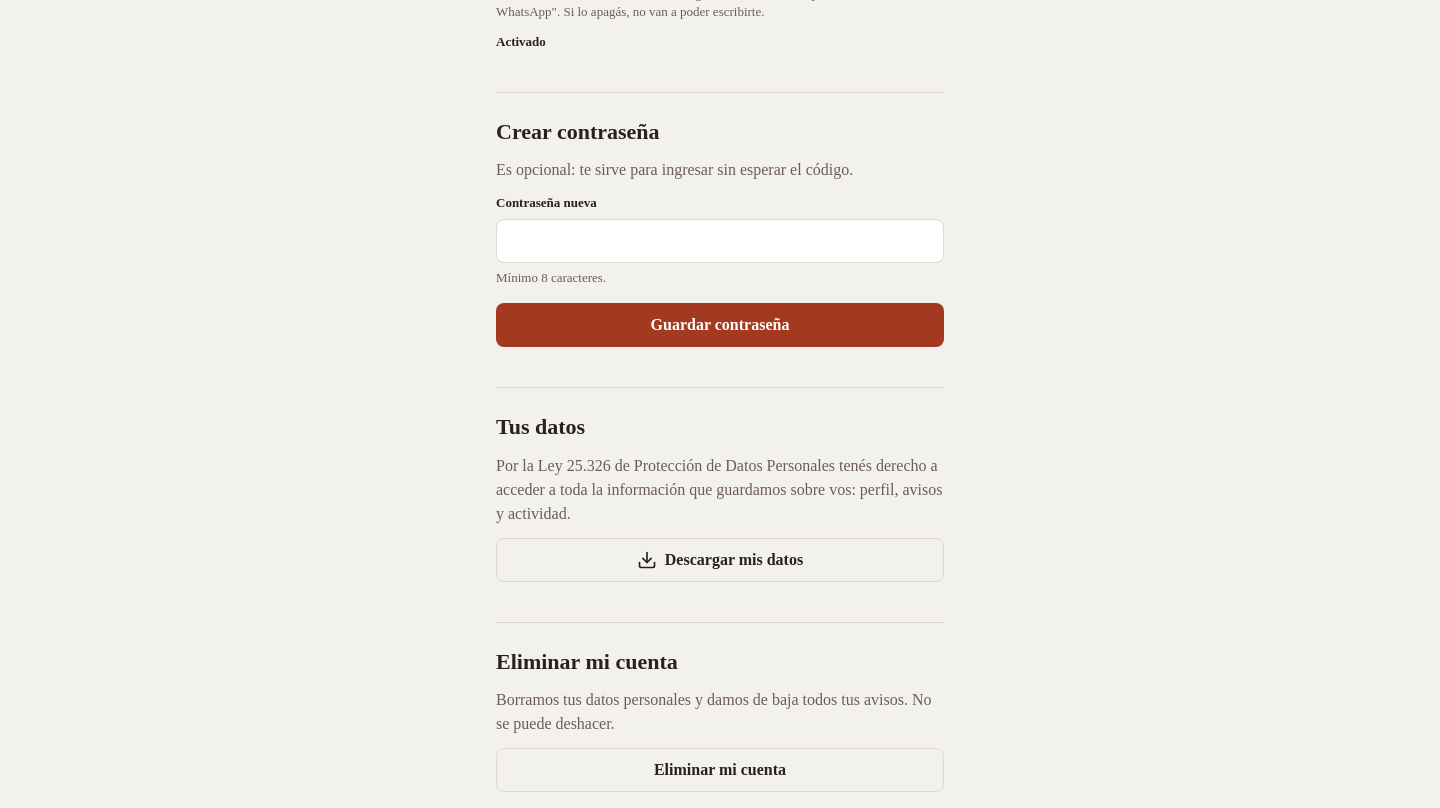
/ajustes › el borrado exige escribir ELIMINAR
(page scrolled)
Click the button "Eliminar mi cuenta" at {"x": 720, "y": 770}, box [496,748,944,792]
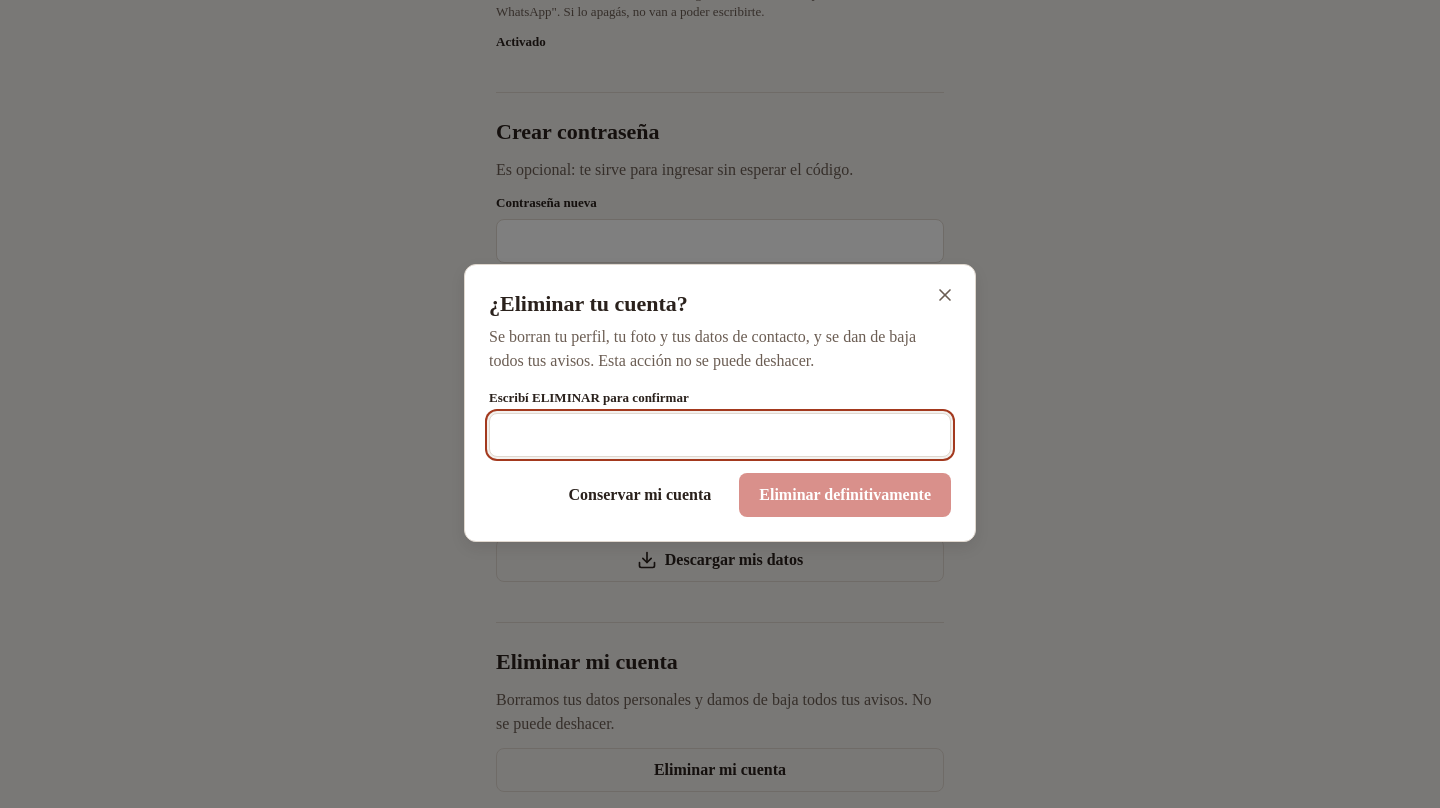
Result: the button "Eliminar definitivamente" is disabled at [739,473,951,517]
Type "ELIMINA" into the field labelled "Escribí ELIMINAR para confirmar" at {"x": 720, "y": 435}, box [489,413,951,457]
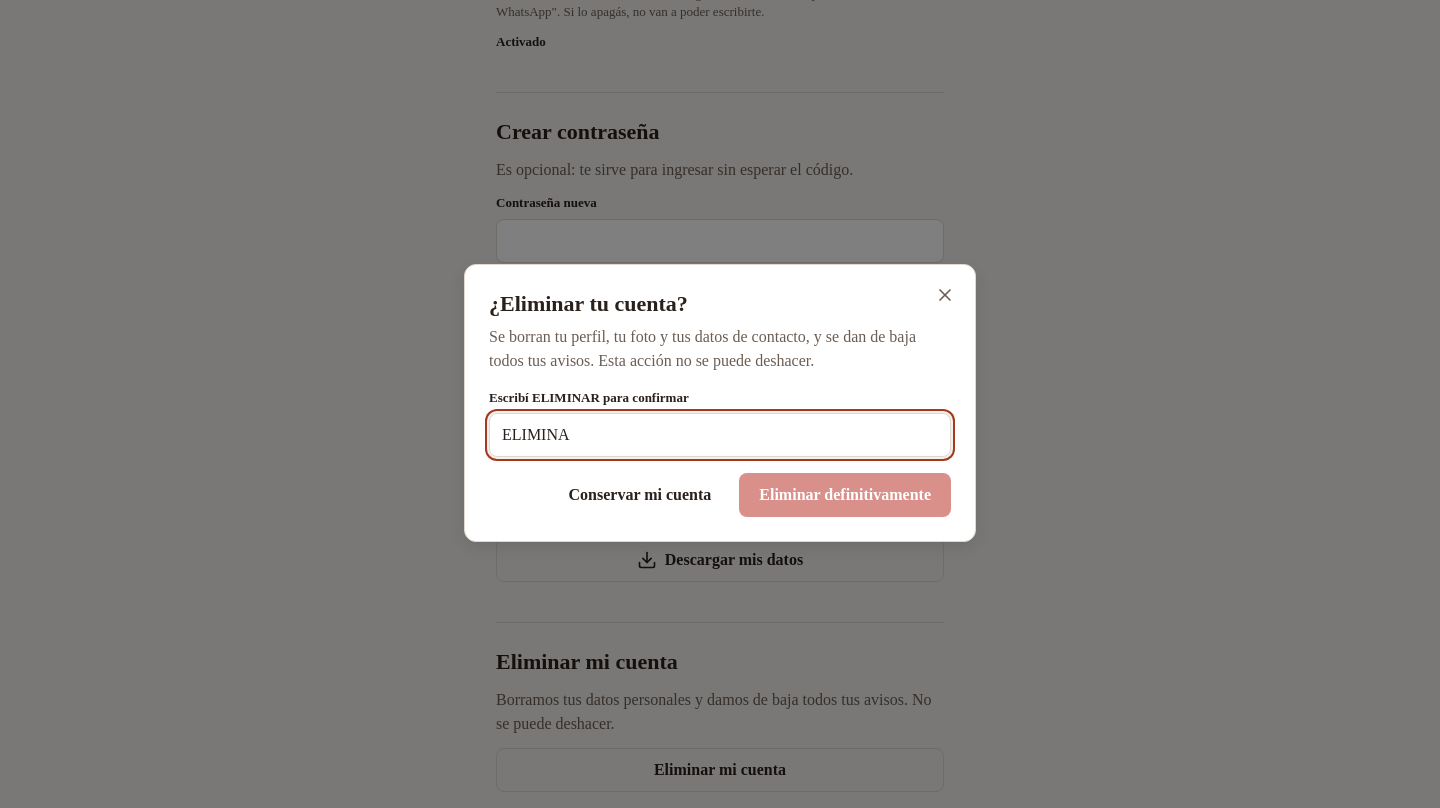
Result: the button "Eliminar definitivamente" is disabled at [739,473,951,517]
Type "R" into the field labelled "Escribí ELIMINAR para confirmar" at {"x": 720, "y": 435}, box [489,413,951,457]
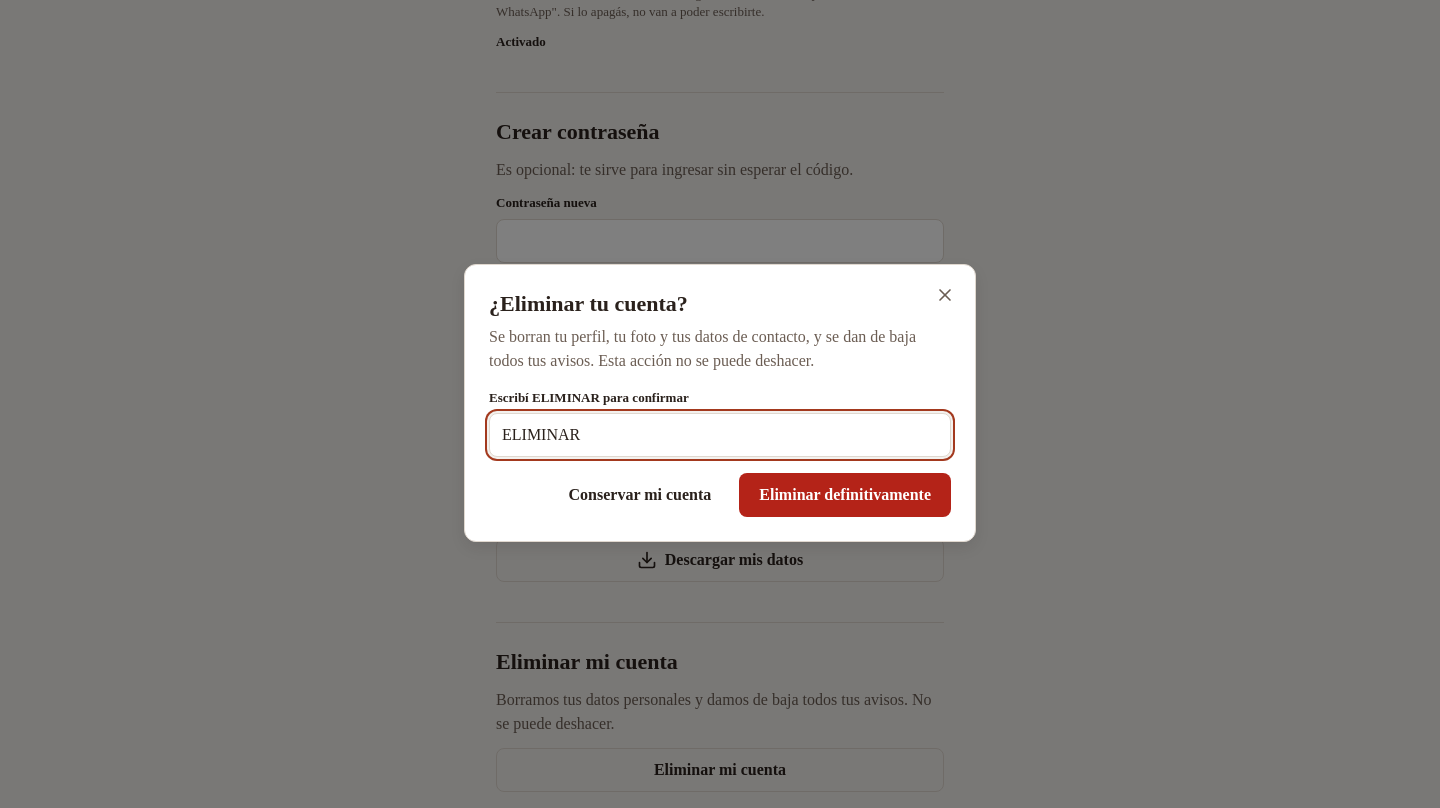
Result: the button "Eliminar definitivamente" is enabled at [739,473,951,517]
